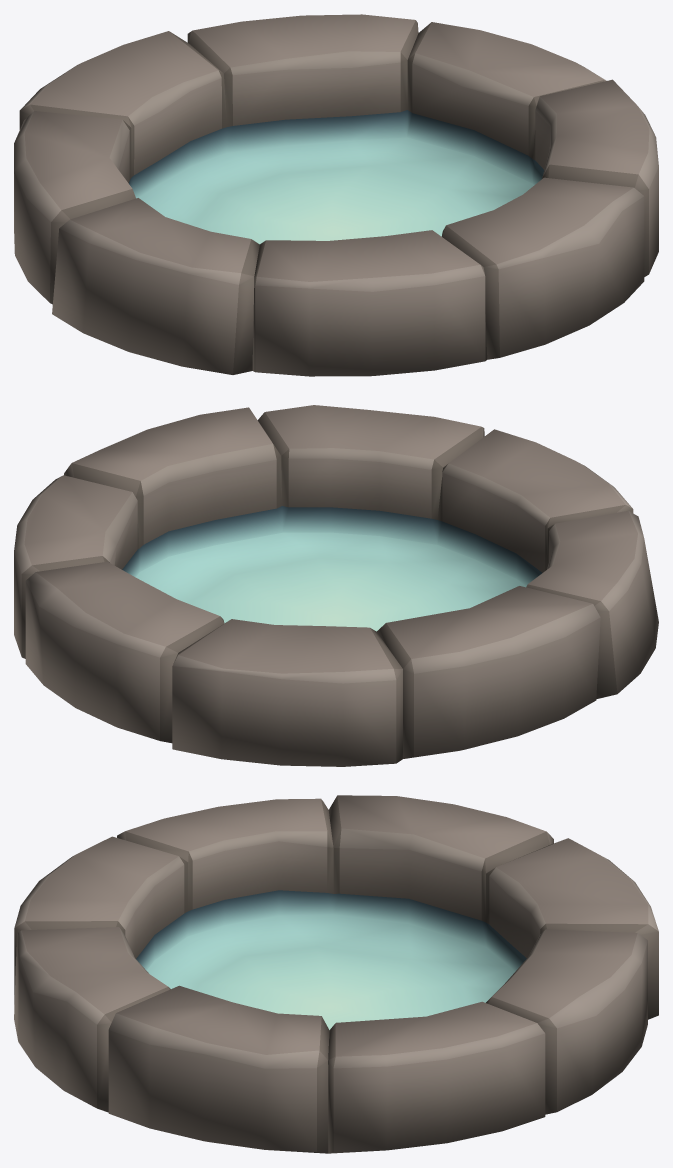
File: elf_well.fbx
3 views of the same model, one above another, from view 1: azimuth 30°, elevation 25°; view 2: azimuth 150°, elevation 25°; view 3: azimuth 270°, elevation 25° (orthographic). The views are drawn at different scales.
Parts seen in each view (by area): view 1: elf_well; view 2: elf_well; view 3: elf_well.
Boxes of the visible parts, x1,y1,x2,y2 form: elf_well: (14, 14, 658, 376); elf_well: (14, 405, 658, 766); elf_well: (14, 795, 658, 1153).
Size of the model in its own units: 5.06 by 0.9008 by 5.06.
